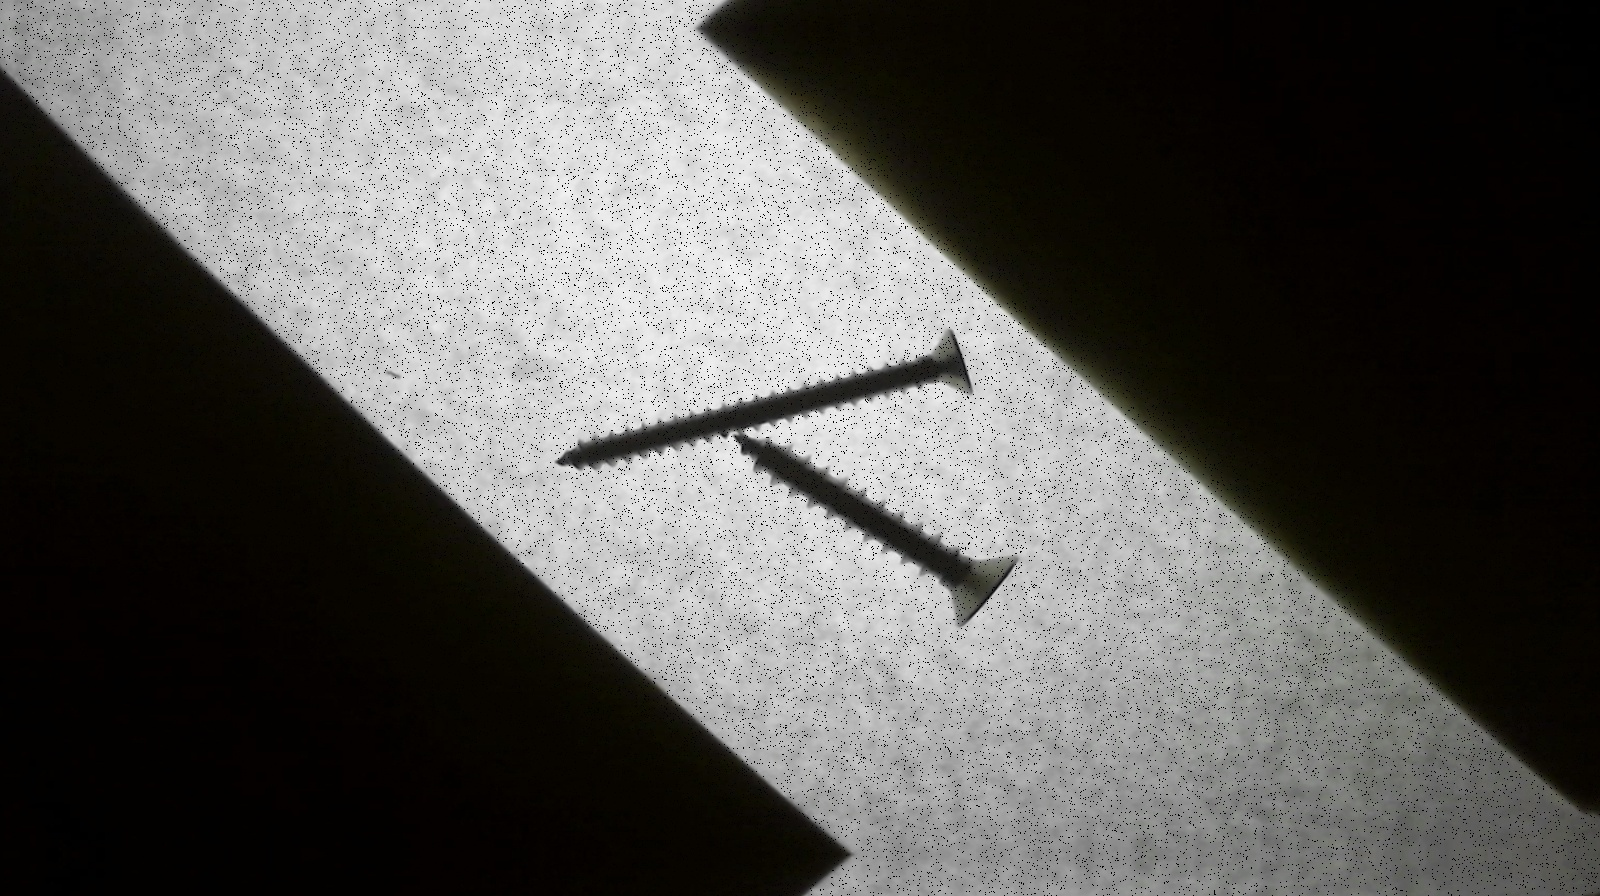S001: (733, 434, 1021, 627)
S002: (559, 327, 973, 471)
